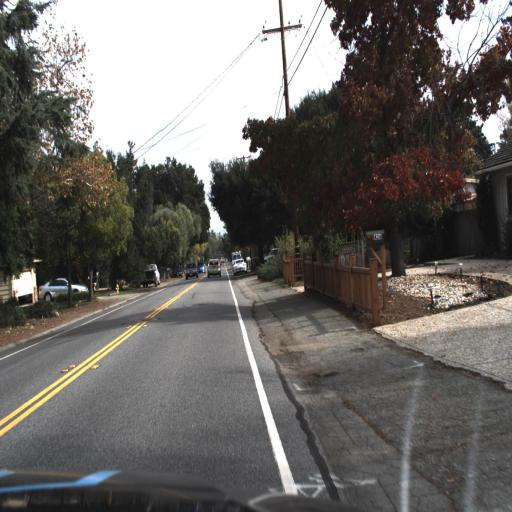car: (36, 274, 94, 305), (37, 276, 89, 300), (141, 262, 161, 290), (182, 260, 201, 282), (206, 256, 222, 280), (230, 258, 248, 279), (230, 256, 247, 277)
